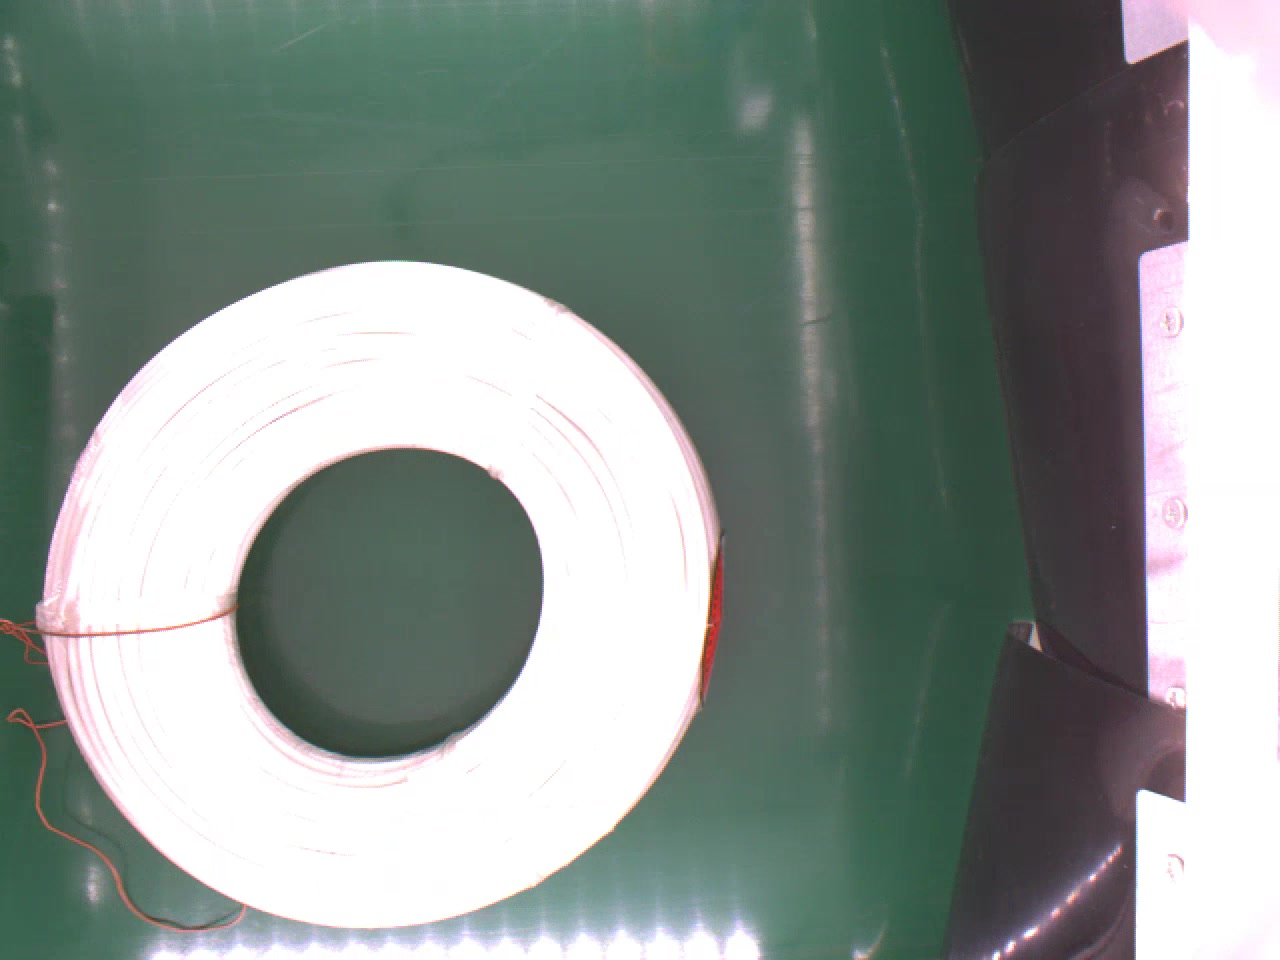white: (38, 258, 719, 931)
